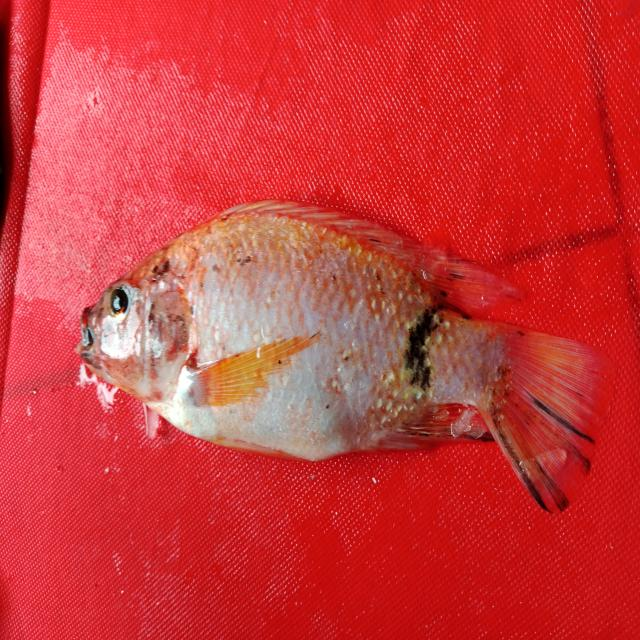ikan: (59, 190, 621, 536)
